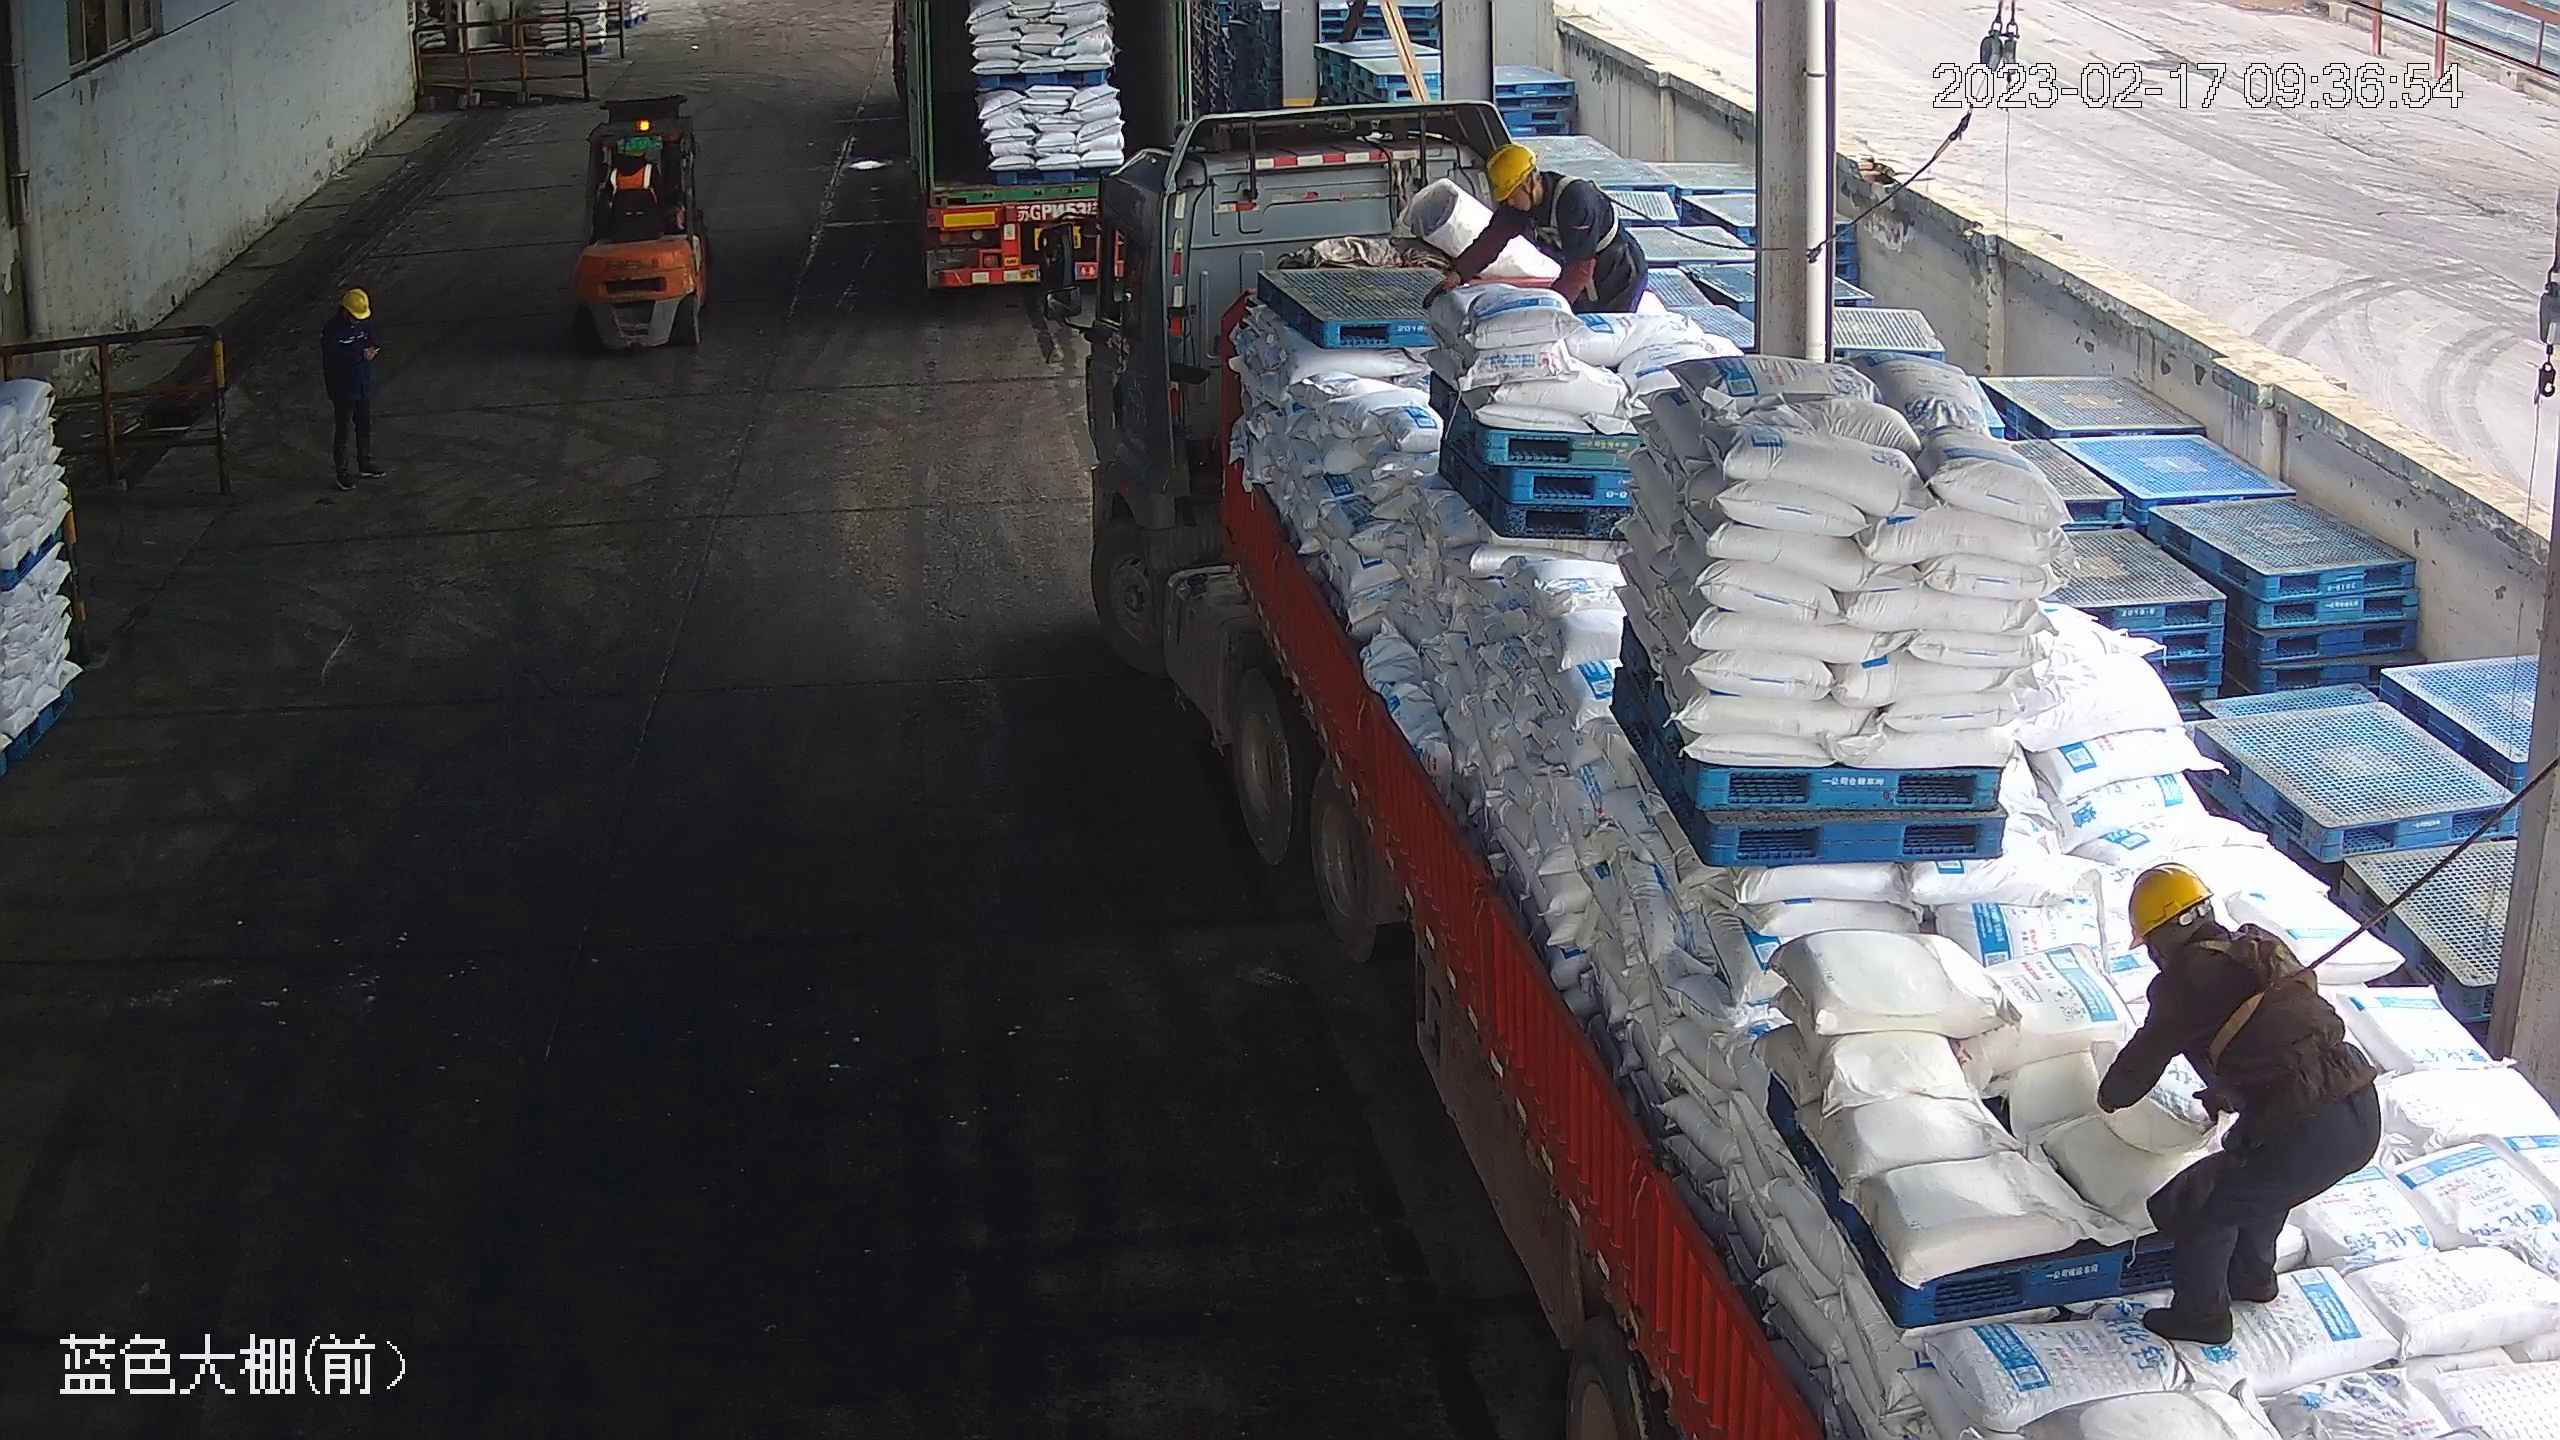belt: (2194, 925, 2322, 1054), (1532, 176, 1624, 252)
head: (2120, 861, 2297, 1016), (1477, 138, 1587, 231), (320, 286, 378, 348)
helmet: (2123, 859, 2213, 937), (1484, 141, 1538, 204), (340, 285, 370, 315)
people: (2089, 859, 2382, 1357), (1427, 139, 1656, 329), (318, 286, 388, 489)
truck: (1016, 98, 2553, 1438), (891, 6, 1202, 292)
